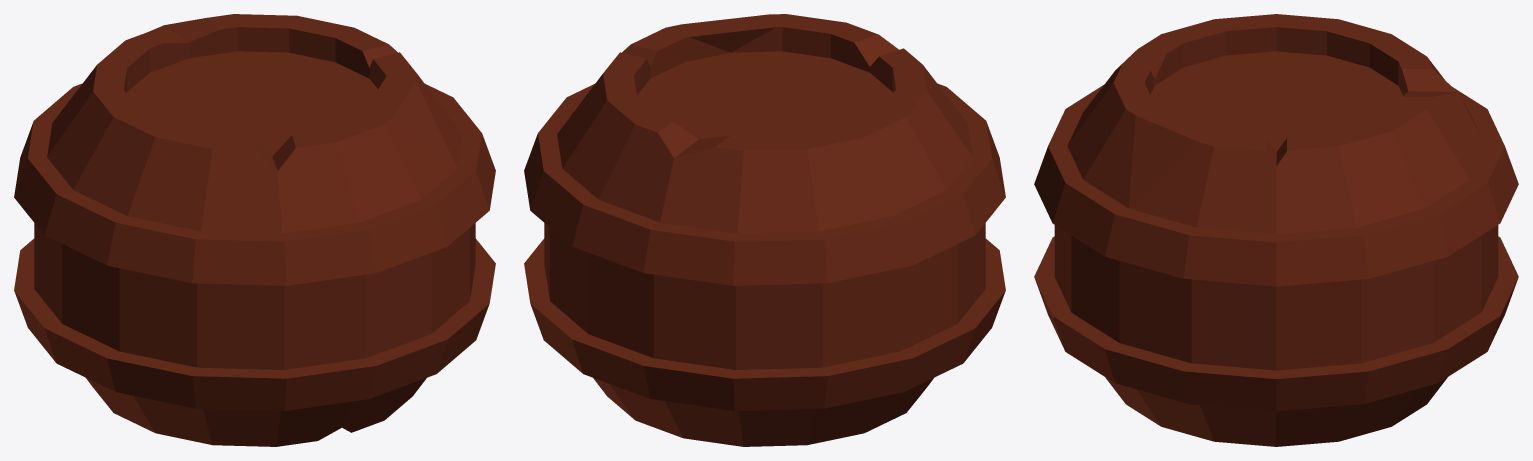
The model's file is Brownbarrel.obj.
3 renders of one model, left to right at view 1: azimuth 30°, elevation 25°; view 2: azimuth 150°, elevation 25°; view 3: azimuth 270°, elevation 25°, orthographic.
Parts seen in each view (by area): view 1: Cylinder.002; view 2: Cylinder.002; view 3: Cylinder.002.
Boxes of the visible parts, left/top/right/bottom form: Cylinder.002: left=14, top=14, right=495, bottom=446; Cylinder.002: left=524, top=14, right=1005, bottom=446; Cylinder.002: left=1034, top=14, right=1518, bottom=446.
Bounding box in the file's own units: 2.98 × 2 × 2.98.
